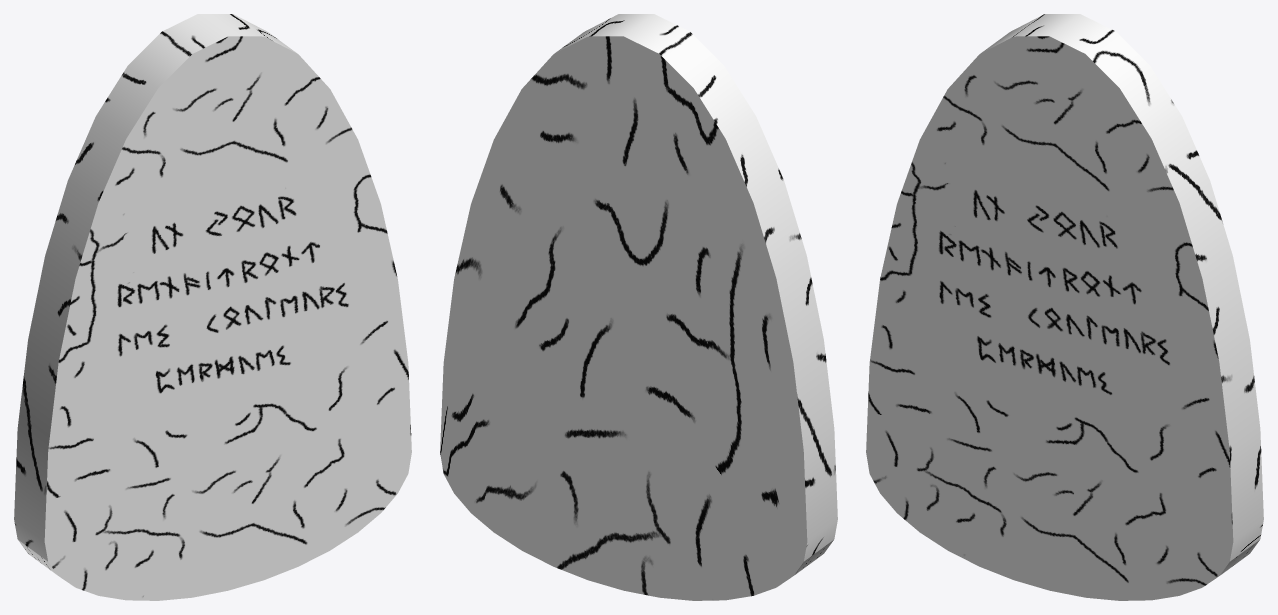
File: magique.obj
The picture shows the model from 3 angles, left to right: view 1: azimuth 30°, elevation 25°; view 2: azimuth 150°, elevation 25°; view 3: azimuth 330°, elevation 25°; orthographic projection.
Parts seen in each view (by area): view 1: Cylinder.003; view 2: Cylinder.003; view 3: Cylinder.003.
Part boxes in pixels (x1=…): Cylinder.003: x1=14, y1=14, x2=411, y2=600; Cylinder.003: x1=440, y1=14, x2=837, y2=600; Cylinder.003: x1=866, y1=14, x2=1263, y2=600.
Size of the model in its own units: 1.63 by 2.34 by 0.2345.
